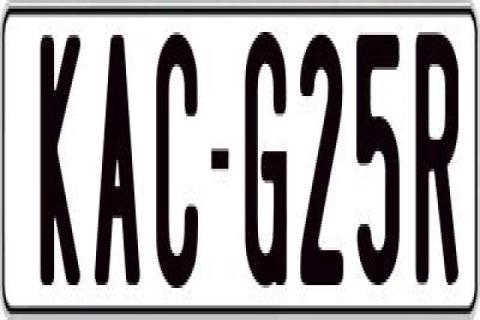0: (356, 32, 404, 296), (298, 26, 344, 282)
A: (94, 35, 140, 288)
C: (154, 32, 200, 296)
G: (242, 23, 284, 285)
K: (40, 32, 88, 282)
R: (413, 26, 459, 288)
